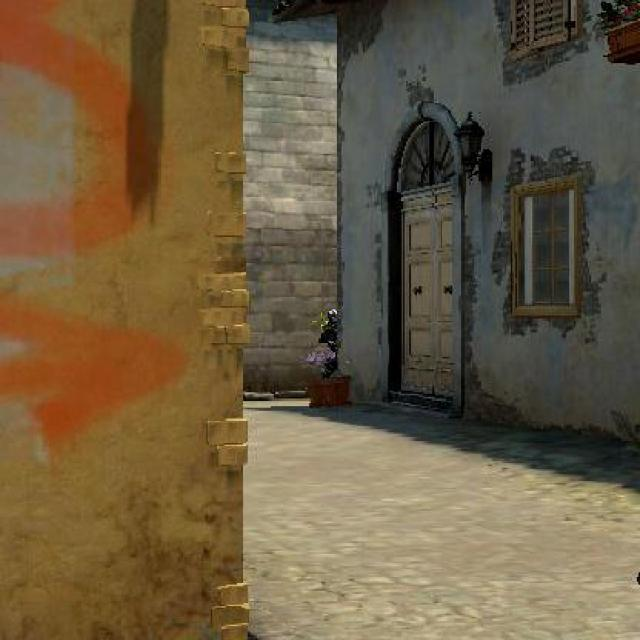CT: (318, 310, 337, 378)
CT_HEAD: (326, 309, 337, 329)
